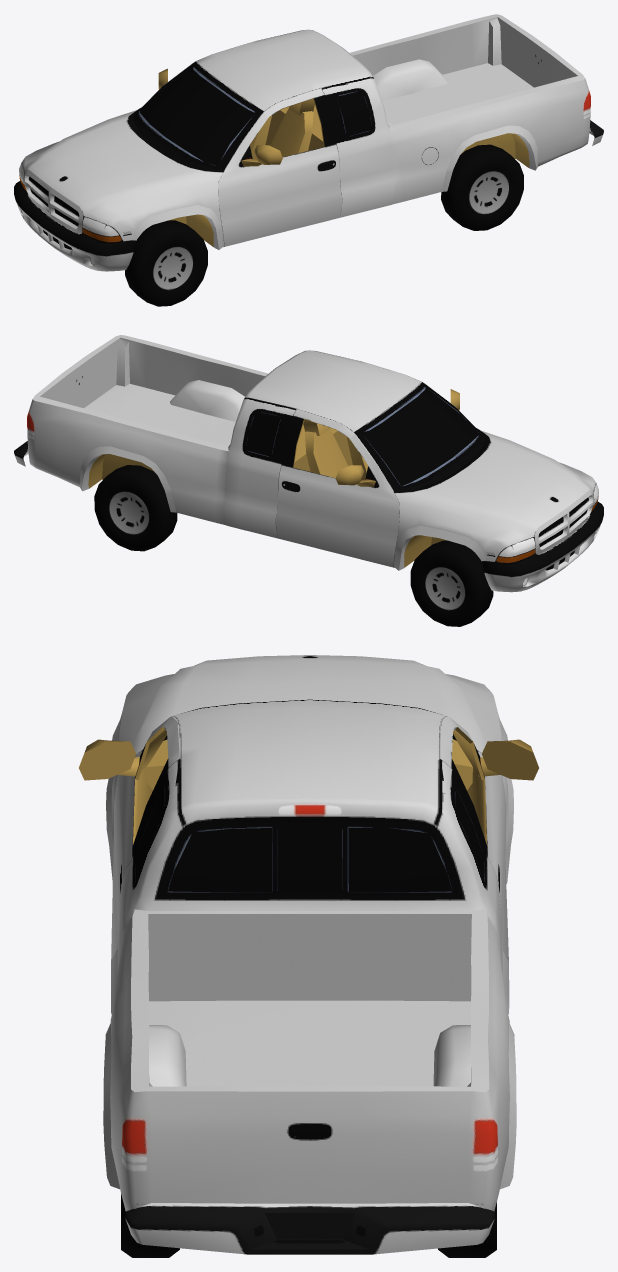
The model's file is dodge-dakota.glb.
3 views of the same model, one above another, from view 1: azimuth 30°, elevation 25°; view 2: azimuth 150°, elevation 25°; view 3: azimuth 270°, elevation 25° (orthographic). The views are drawn at different scales.
Parts seen in each view (by area): view 1: dodge_base001, doodge_glass001, wheel_doodge, wheel_doodge001, dodge_salon001; view 2: dodge_base001, doodge_glass001, wheel_doodge003, wheel_doodge002, dodge_salon001; view 3: dodge_base001, doodge_glass001, dodge_salon001, wheel_doodge001, wheel_doodge002.
Boxes of the visible parts, x1,y1,x2,y2 form: dodge_base001: [14, 14, 603, 271]; doodge_glass001: [140, 66, 372, 165]; wheel_doodge: [125, 220, 207, 306]; wheel_doodge001: [441, 144, 523, 230]; dodge_salon001: [158, 68, 529, 246]; dodge_base001: [14, 335, 603, 592]; doodge_glass001: [245, 387, 479, 486]; wheel_doodge003: [410, 540, 493, 626]; wheel_doodge002: [94, 465, 177, 551]; dodge_salon001: [88, 389, 459, 567]; dodge_base001: [103, 655, 516, 1254]; doodge_glass001: [135, 734, 484, 892]; dodge_salon001: [79, 727, 538, 845]; wheel_doodge001: [121, 1194, 179, 1257]; wheel_doodge002: [438, 1202, 496, 1257].
Size of the model in its own units: 5.25 by 1.7 by 2.02.
Materials: 4 (2 with a texture image).
